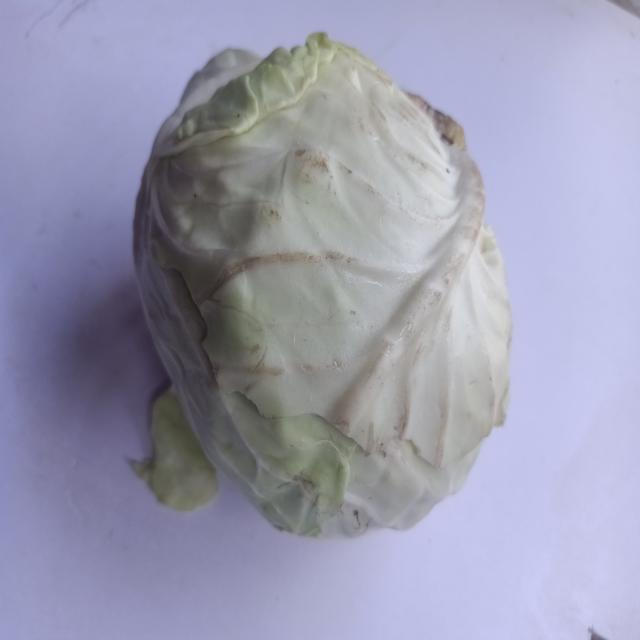Cabbage: (103, 24, 542, 555)
